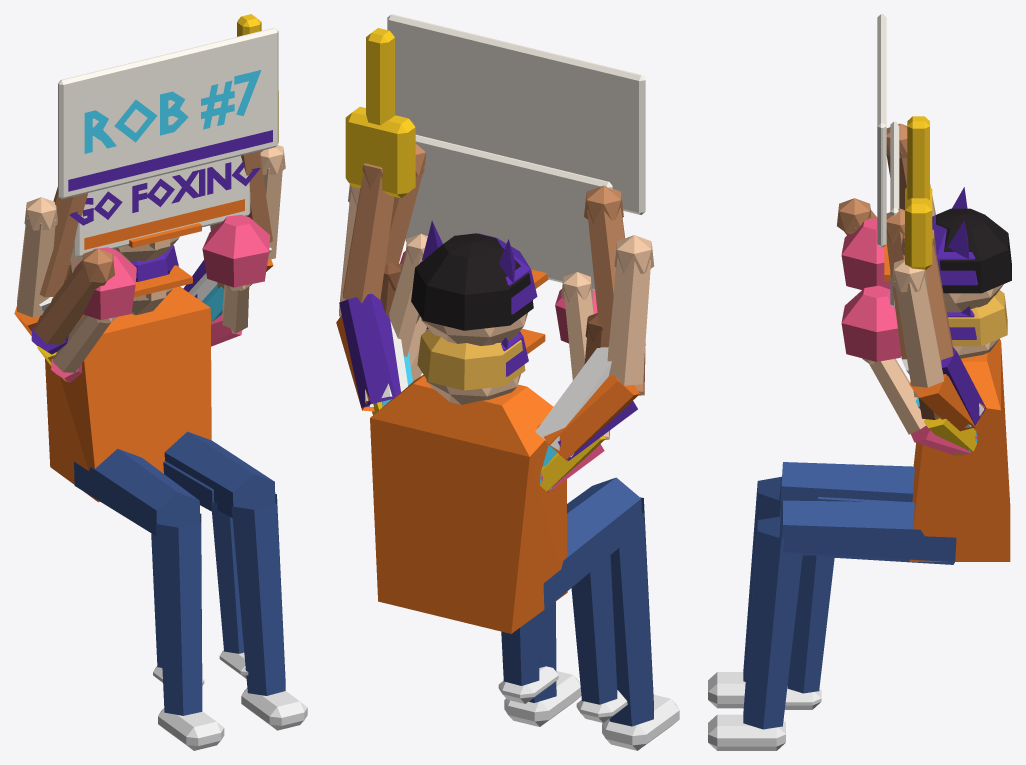
File: sb-crowd.glb
3 renders of one model, left to right at view 1: azimuth 30°, elevation 25°; view 2: azimuth 150°, elevation 25°; view 3: azimuth 270°, elevation 25°, orthographic. The views are drawn at different scales.
Parts seen in each view (by area): view 1: Fan1, Fan5, Fan3, Fan6, Fan2, Fan4; view 2: Fan1, Fan5, Fan3, Fan2, Fan4, Fan6; view 3: Fan1, Fan2, Fan6, Fan3, Fan5, Fan4.
Part boxes in pixels (x1,y1,x2,y2): Fan1: [14, 145, 307, 750]; Fan5: [39, 28, 278, 310]; Fan3: [69, 156, 260, 685]; Fan6: [51, 214, 269, 382]; Fan2: [31, 14, 278, 354]; Fan4: [37, 245, 192, 381]; Fan1: [336, 184, 679, 750]; Fan5: [365, 14, 645, 457]; Fan3: [382, 134, 627, 722]; Fan2: [339, 28, 645, 461]; Fan4: [372, 263, 605, 491]; Fan6: [400, 251, 609, 492]; Fan1: [708, 184, 1010, 750]; Fan2: [837, 116, 1011, 425]; Fan6: [841, 218, 977, 455]; Fan3: [784, 121, 1007, 709]; Fan5: [877, 14, 984, 427]; Fan4: [918, 306, 976, 455].
Size of the model in its own units: 0.684 by 1.58 by 0.6635.
